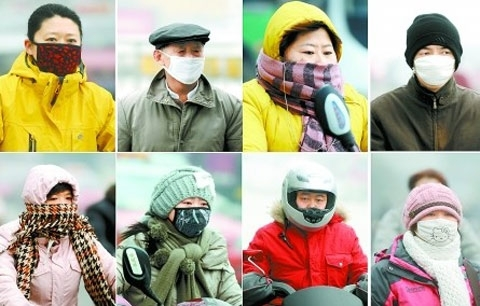face_mask: (287, 31, 336, 86), (35, 19, 81, 74), (415, 40, 454, 87), (166, 40, 205, 84), (172, 193, 209, 235), (420, 205, 455, 249), (44, 188, 74, 225), (296, 190, 327, 222)
